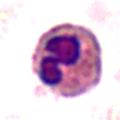monocyte: (30, 22, 106, 99)
